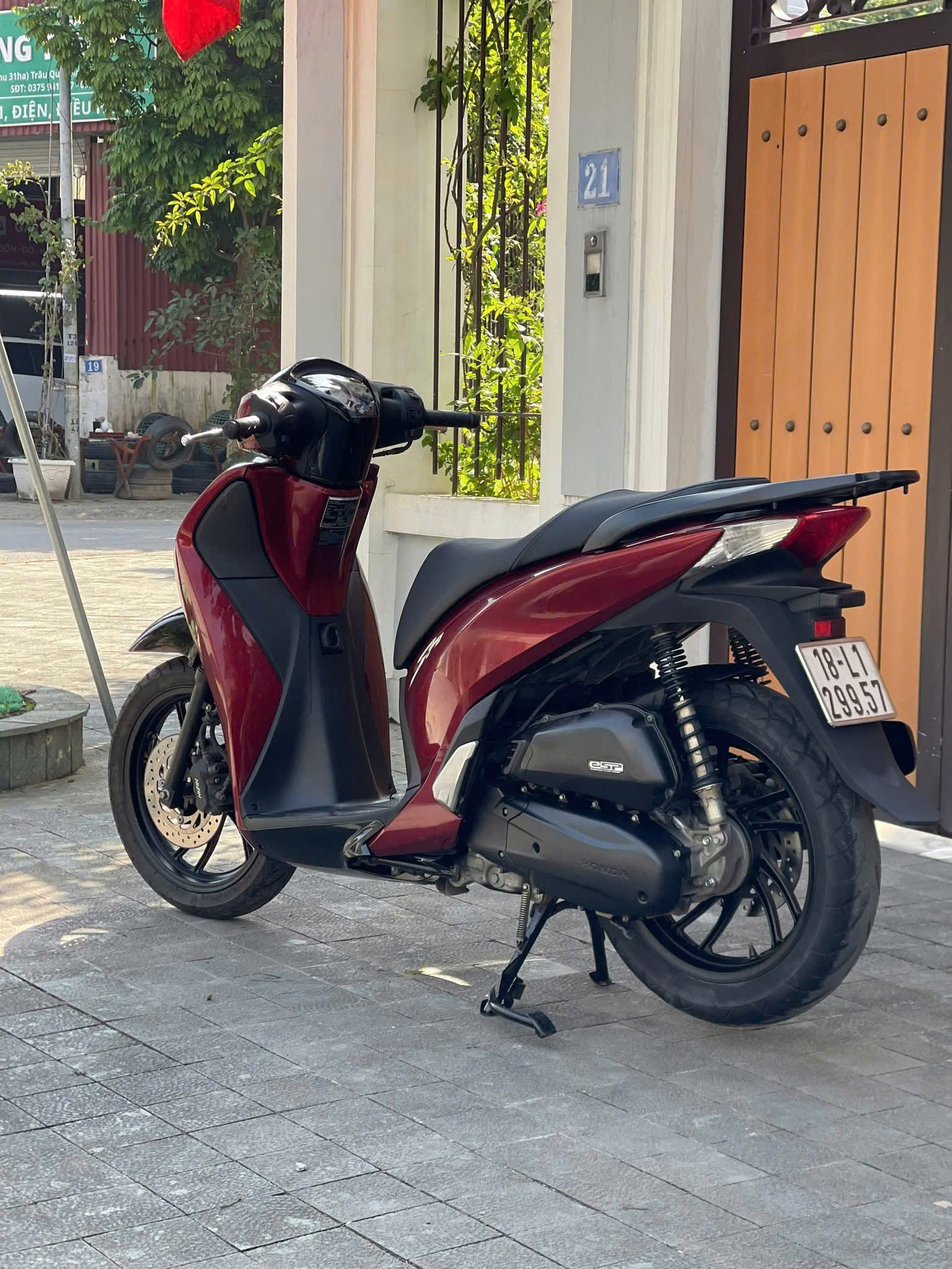Bien-so: (795, 632, 905, 728)
